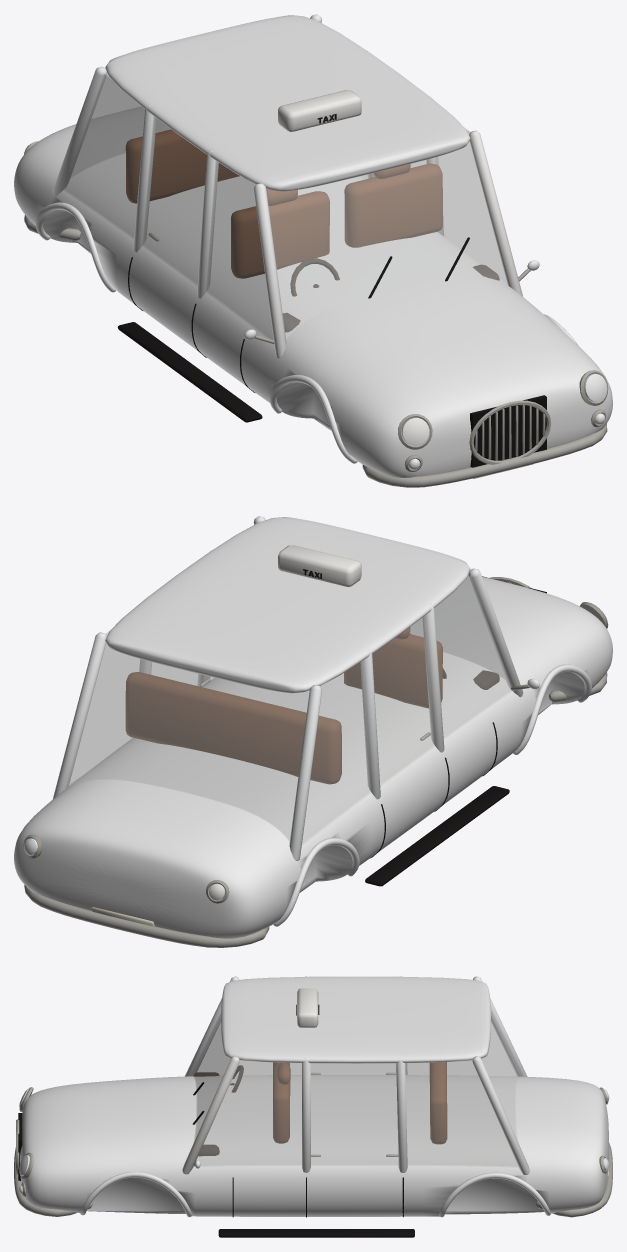
The model's file is taxi.glb.
3 renders of one model, top to bottom at view 1: azimuth 30°, elevation 25°; view 2: azimuth 150°, elevation 25°; view 3: azimuth 270°, elevation 25°, orthographic. The views are drawn at different scales.
Parts seen in each view (by area): view 1: Autolack, Autoglas, Sammel Stoff, Sammel Metall, Sammel Glatt, Taxischild, Scheinwerfer; view 2: Autolack, Autoglas, Sammel Stoff, Sammel Metall, Sammel Glatt, Taxischild; view 3: Autolack, Autoglas, Sammel Stoff, Sammel Glatt, Sammel Metall, Taxischild.
Boxes of the visible parts, bbox=[...] form: Autolack: bbox=[14, 14, 612, 477]; Autoglas: bbox=[63, 21, 508, 339]; Sammel Stoff: bbox=[125, 129, 499, 332]; Sammel Metall: bbox=[24, 141, 608, 487]; Sammel Glatt: bbox=[117, 114, 546, 467]; Taxischild: bbox=[278, 90, 361, 131]; Scheinwerfer: bbox=[402, 373, 606, 445]; Autolack: bbox=[14, 516, 612, 938]; Autoglas: bbox=[67, 523, 511, 845]; Sammel Stoff: bbox=[125, 627, 499, 784]; Sammel Metall: bbox=[23, 577, 608, 947]; Sammel Glatt: bbox=[303, 569, 546, 886]; Taxischild: bbox=[278, 545, 361, 586]; Autolack: bbox=[20, 976, 608, 1217]; Autoglas: bbox=[190, 1013, 521, 1167]; Sammel Stoff: bbox=[194, 1062, 447, 1156]; Sammel Glatt: bbox=[18, 1004, 414, 1237]; Sammel Metall: bbox=[14, 1072, 612, 1217]; Taxischild: bbox=[297, 988, 318, 1027].
Bounding box in the file's own units: 1.98 × 1.59 × 4.57.
